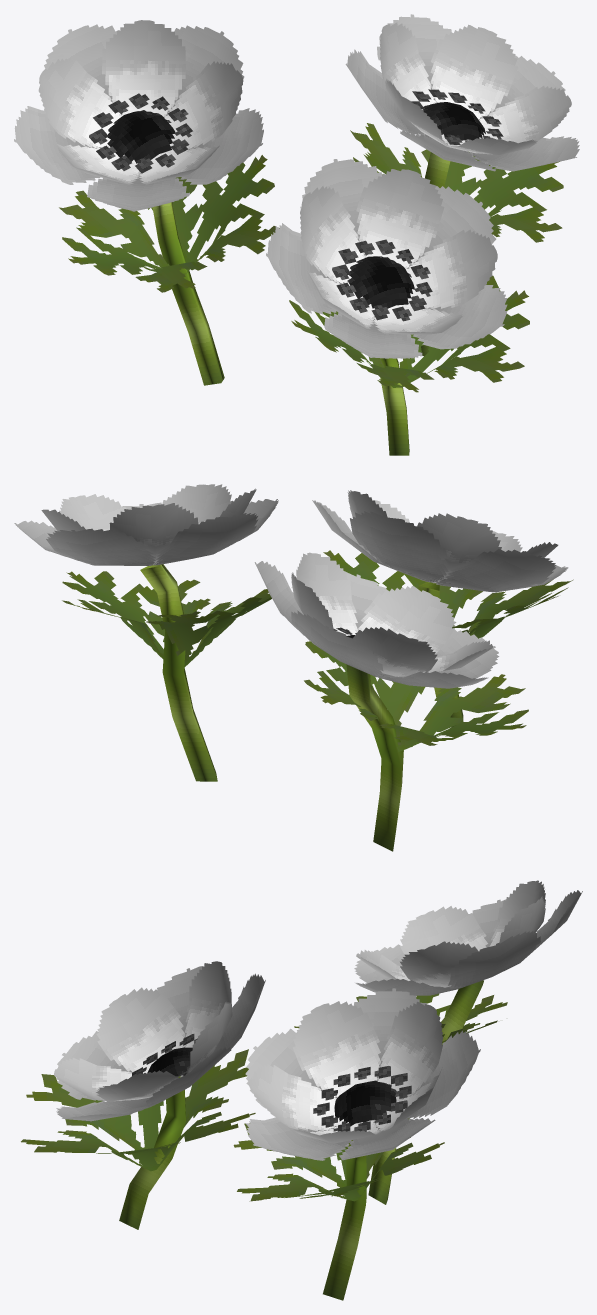
The model's file is flower-anemone.glb.
The picture shows the model from 3 angles, top to bottom: view 1: azimuth 30°, elevation 25°; view 2: azimuth 150°, elevation 25°; view 3: azimuth 270°, elevation 25°; orthographic projection. The views are drawn at different scales.
Bounding box in the file's own units: 9.97 × 6.03 × 10.17.
2 materials, 2 textured.
